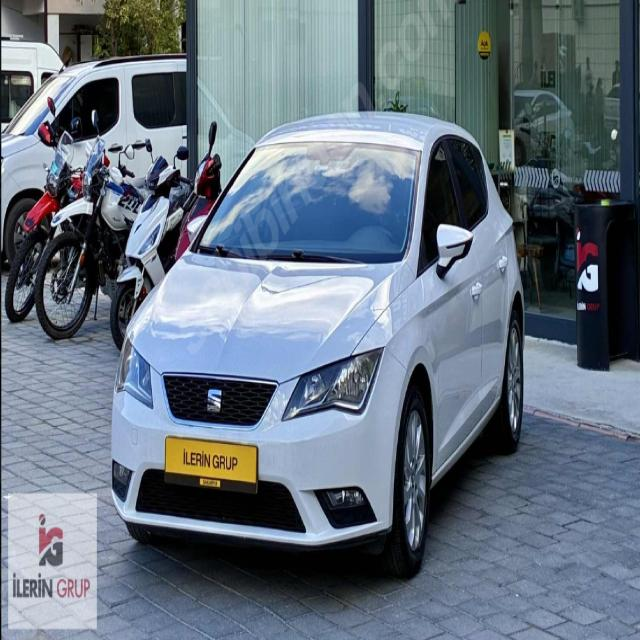seat: (205, 386, 224, 417)
